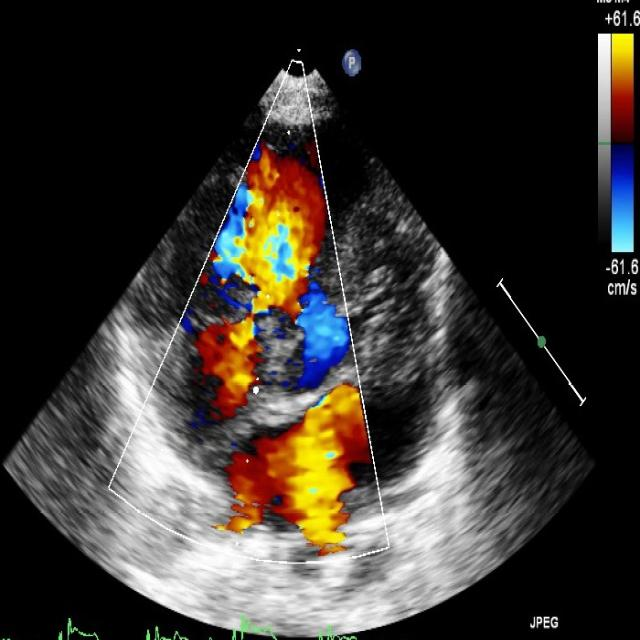VSDType2: (245, 216, 347, 390)
